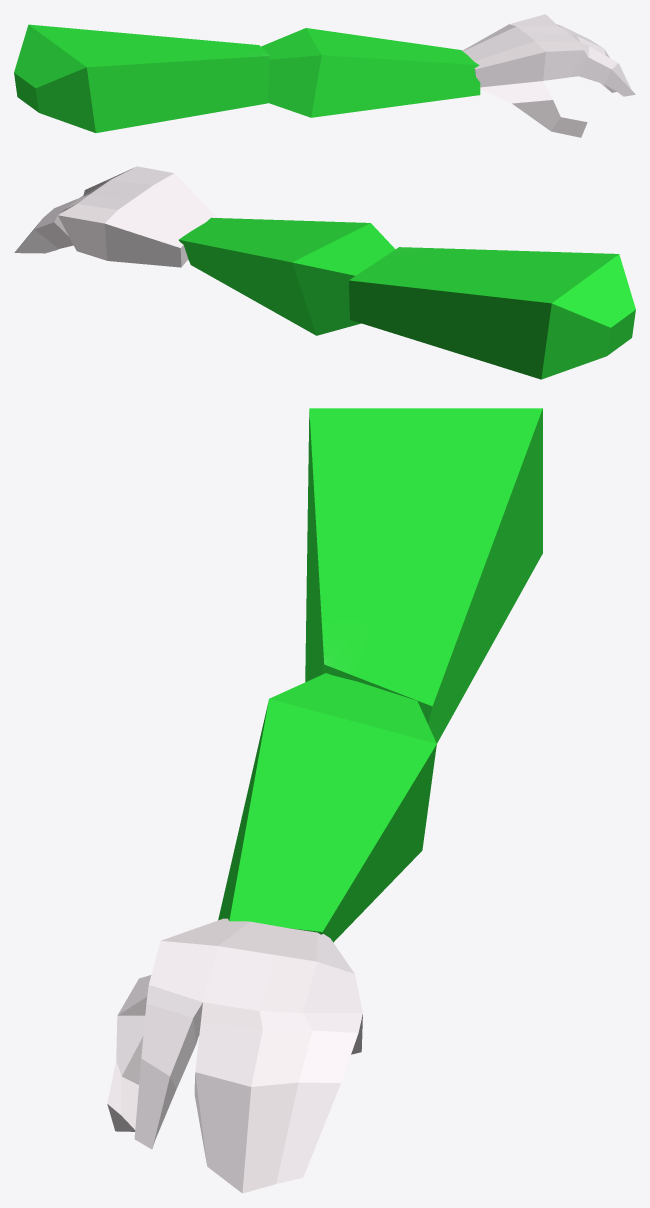
Rendered from brazo.glb.
3 renders of one model, top to bottom at view 1: azimuth 30°, elevation 25°; view 2: azimuth 150°, elevation 25°; view 3: azimuth 270°, elevation 25°, orthographic. The views are drawn at different scales.
Parts seen in each view (by area): view 1: brazo, mano, pulgar1, indice1, indice2, pulgar2, dedos1; view 2: brazo, mano, dedos1, dedos2; view 3: brazo, mano, dedos2, dedos1, indice1, pulgar1, indice2, pulgar2.
Boxes of the visible parts, left/top/right/bottom form: brazo: left=14, top=24, right=480, bottom=132; mano: left=462, top=14, right=583, bottom=87; pulgar1: left=480, top=81, right=560, bottom=131; indice1: left=571, top=42, right=617, bottom=83; indice2: left=604, top=63, right=635, bottom=96; pulgar2: left=551, top=117, right=587, bottom=137; dedos1: left=556, top=24, right=605, bottom=55; brazo: left=179, top=217, right=635, bottom=379; mano: left=57, top=166, right=217, bottom=267; dedos1: left=34, top=181, right=108, bottom=248; dedos2: left=14, top=222, right=58, bottom=253; brazo: left=218, top=408, right=542, bottom=942; mano: left=149, top=918, right=362, bottom=1013; dedos2: left=194, top=1072, right=340, bottom=1193; dedos1: left=195, top=1002, right=362, bottom=1086; indice1: left=141, top=985, right=202, bottom=1089; pulgar1: left=116, top=975, right=151, bottom=1084; indice2: left=134, top=1058, right=176, bottom=1149; pulgar2: left=107, top=1061, right=138, bottom=1131.
Size of the model in its own units: 0.5726 by 0.1418 by 0.1934.
Materials: 1 (1 with a texture image).
